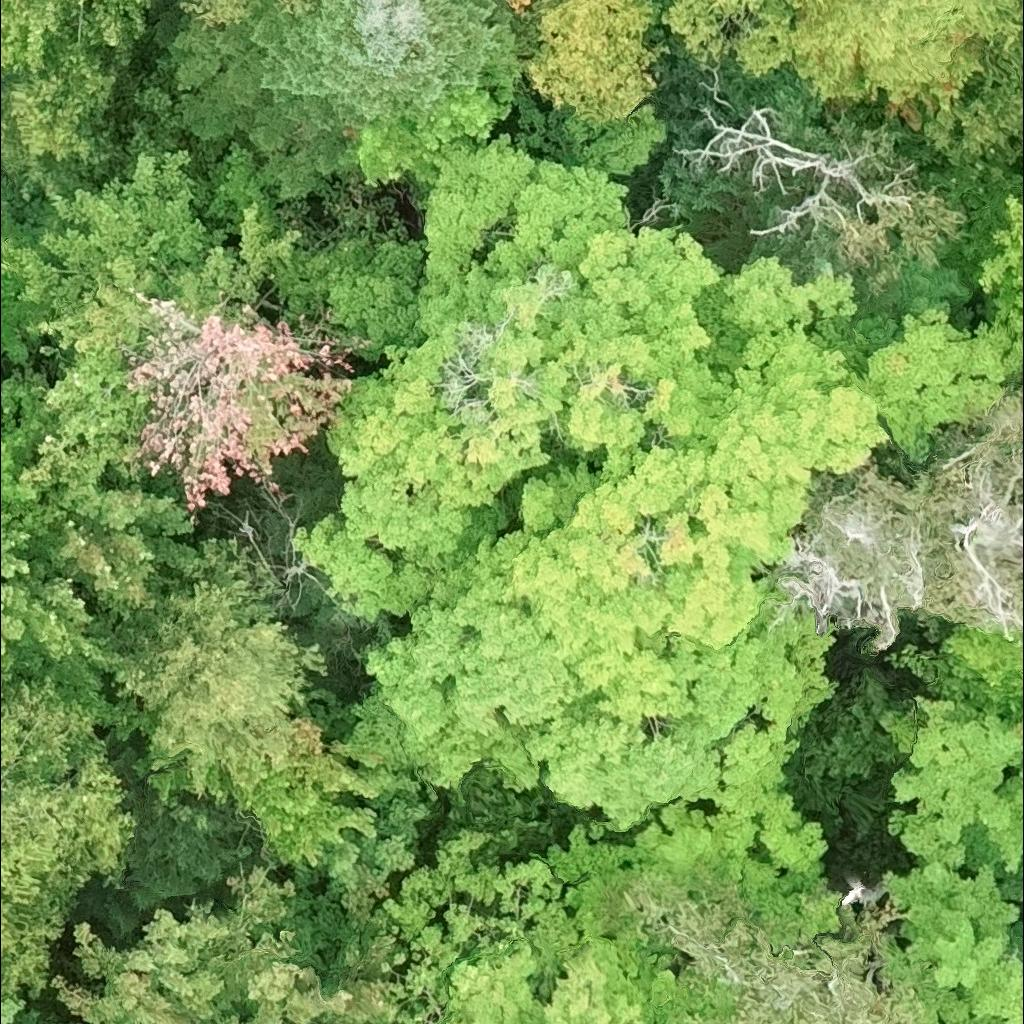crown: (345, 257, 896, 832), (289, 130, 737, 626), (2, 143, 371, 514), (153, 0, 533, 200), (0, 363, 201, 703), (545, 785, 844, 990), (111, 531, 328, 791), (50, 867, 404, 1023), (0, 673, 143, 1000), (621, 885, 936, 1023), (655, 0, 1023, 112), (851, 262, 1012, 468), (0, 1, 136, 225), (204, 712, 382, 868), (876, 694, 1023, 878), (111, 746, 269, 899), (883, 859, 1023, 1023), (270, 228, 422, 365), (437, 936, 676, 1023), (511, 0, 672, 127), (355, 90, 512, 192), (955, 193, 1023, 379), (0, 0, 153, 82), (922, 57, 1023, 166), (199, 138, 284, 242), (0, 199, 47, 367), (178, 0, 266, 23), (0, 986, 24, 1023), (1005, 699, 1023, 746), (1004, 41, 1023, 78), (274, 0, 315, 12)
